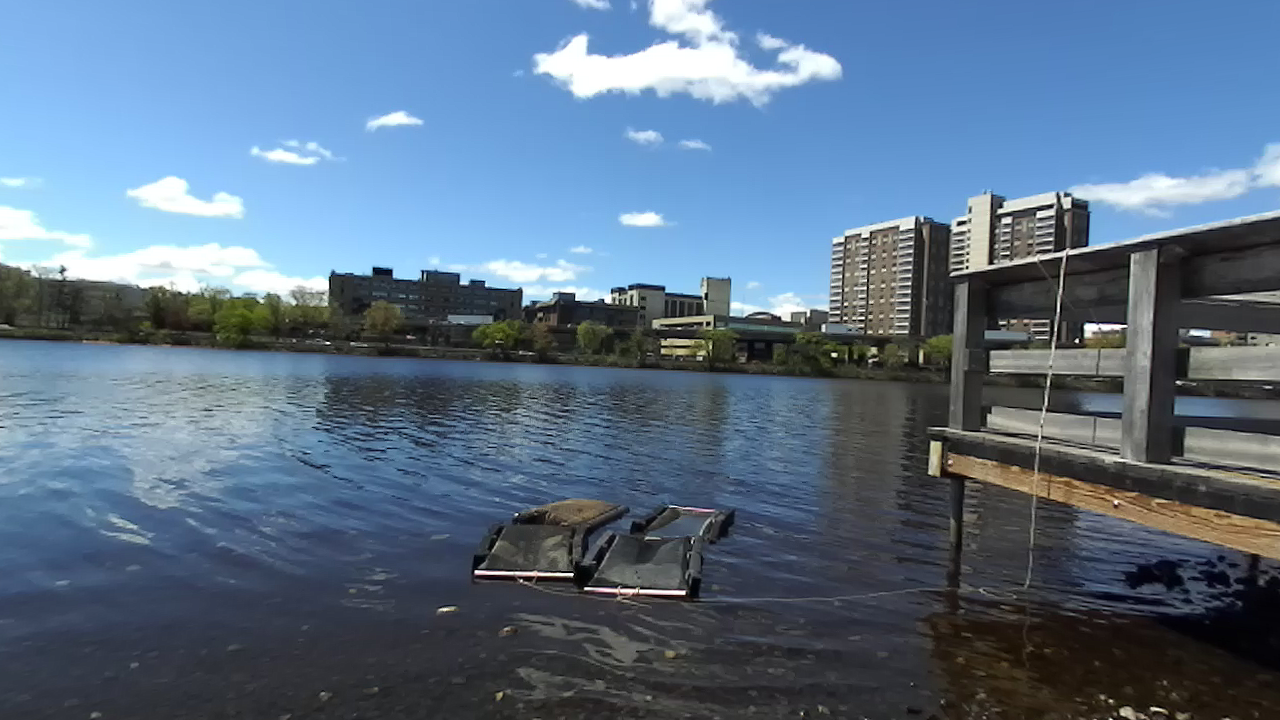bag: (583, 535, 702, 597), (472, 524, 582, 582), (631, 501, 733, 539), (515, 496, 633, 527)
